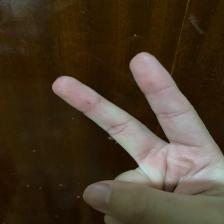two: (51, 51, 218, 218)
